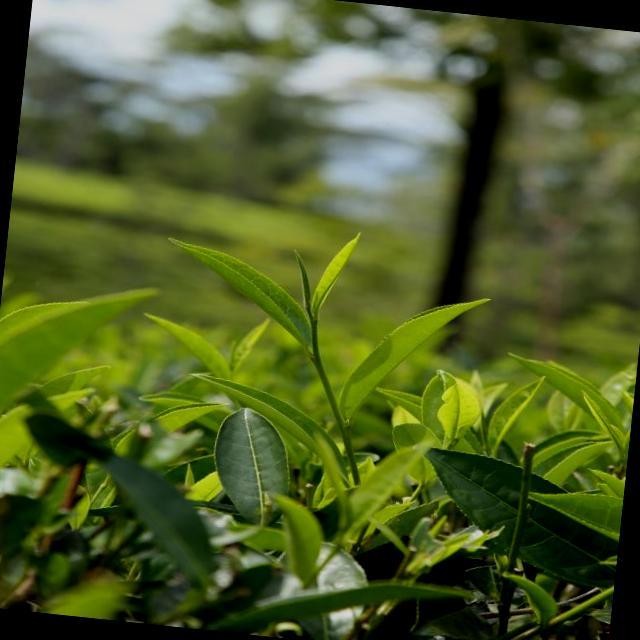Stem: (312, 322, 318, 331)
